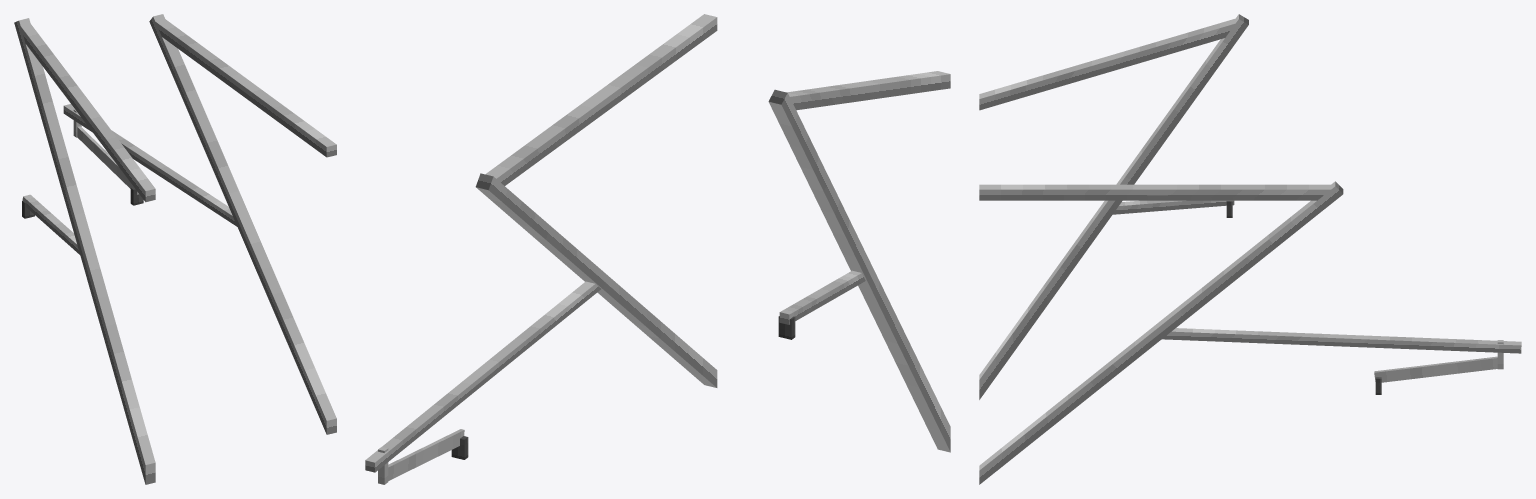
The model's file is cantilever_outer_5px.obj.
The picture shows the model from 3 angles, left to right: view 1: azimuth 30°, elevation 25°; view 2: azimuth 150°, elevation 25°; view 3: azimuth 270°, elevation 25°; orthographic projection. The views are drawn at different scales.
Parts seen in each view (by area): view 1: 4aa9b271-e8b9-4a7b-ad80-ffb188d4bac3, 3b9de29b-b3be-4e29-8ea8-aa17f5795bb8, 59d5a020-853d-40a4-bffc-c7daef84b761, 3d3d91c4-4034-4979-999c-4ce6c93e236e, 2d614d03-ec64-4e23-b0c8-819a2357ac0d, 9d0fd080-3a18-4372-a847-612347921b04, ae37918b-bce5-4e46-b080-d150767d0f86; view 2: 4aa9b271-e8b9-4a7b-ad80-ffb188d4bac3, 3b9de29b-b3be-4e29-8ea8-aa17f5795bb8, 59d5a020-853d-40a4-bffc-c7daef84b761, 2d614d03-ec64-4e23-b0c8-819a2357ac0d, 3d3d91c4-4034-4979-999c-4ce6c93e236e, 9d0fd080-3a18-4372-a847-612347921b04, ae37918b-bce5-4e46-b080-d150767d0f86; view 3: 3b9de29b-b3be-4e29-8ea8-aa17f5795bb8, 4aa9b271-e8b9-4a7b-ad80-ffb188d4bac3, 59d5a020-853d-40a4-bffc-c7daef84b761, 2d614d03-ec64-4e23-b0c8-819a2357ac0d, 3d3d91c4-4034-4979-999c-4ce6c93e236e, ae37918b-bce5-4e46-b080-d150767d0f86, 9d0fd080-3a18-4372-a847-612347921b04.
Part boxes in pixels (x1,y1,x2,y2): 4aa9b271-e8b9-4a7b-ad80-ffb188d4bac3: [14, 18, 155, 484]; 3b9de29b-b3be-4e29-8ea8-aa17f5795bb8: [149, 14, 336, 434]; 59d5a020-853d-40a4-bffc-c7daef84b761: [155, 19, 336, 157]; 3d3d91c4-4034-4979-999c-4ce6c93e236e: [20, 23, 155, 202]; 2d614d03-ec64-4e23-b0c8-819a2357ac0d: [63, 104, 237, 226]; 9d0fd080-3a18-4372-a847-612347921b04: [22, 194, 79, 254]; ae37918b-bce5-4e46-b080-d150767d0f86: [77, 126, 138, 194]; 4aa9b271-e8b9-4a7b-ad80-ffb188d4bac3: [768, 89, 950, 452]; 3b9de29b-b3be-4e29-8ea8-aa17f5795bb8: [475, 173, 717, 387]; 59d5a020-853d-40a4-bffc-c7daef84b761: [485, 14, 717, 185]; 2d614d03-ec64-4e23-b0c8-819a2357ac0d: [365, 281, 600, 472]; 3d3d91c4-4034-4979-999c-4ce6c93e236e: [787, 71, 950, 110]; 9d0fd080-3a18-4372-a847-612347921b04: [779, 270, 865, 324]; ae37918b-bce5-4e46-b080-d150767d0f86: [388, 429, 464, 480]; 3b9de29b-b3be-4e29-8ea8-aa17f5795bb8: [979, 181, 1343, 484]; 4aa9b271-e8b9-4a7b-ad80-ffb188d4bac3: [979, 14, 1248, 399]; 59d5a020-853d-40a4-bffc-c7daef84b761: [979, 184, 1330, 200]; 2d614d03-ec64-4e23-b0c8-819a2357ac0d: [1162, 328, 1521, 353]; 3d3d91c4-4034-4979-999c-4ce6c93e236e: [979, 18, 1235, 110]; ae37918b-bce5-4e46-b080-d150767d0f86: [1374, 356, 1497, 382]; 9d0fd080-3a18-4372-a847-612347921b04: [1113, 200, 1234, 214].
Size of the model in its own units: 1.19 by 2.21 by 2.84.
